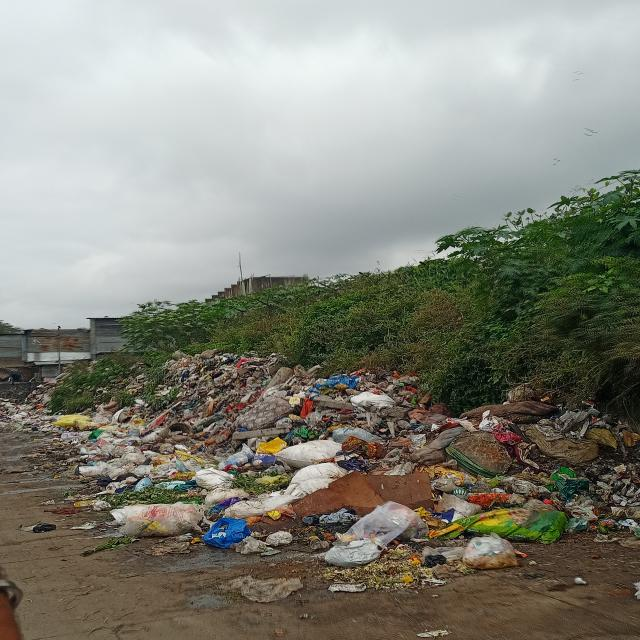garbage: (36, 351, 640, 592)
